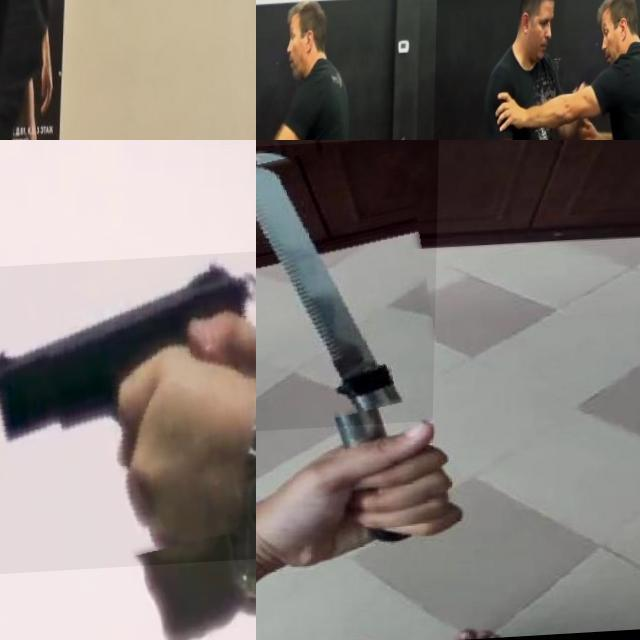-: (256, 140, 439, 435), (0, 0, 35, 90)
gun-knife-thesis - v11 Yolov5 augmented: (0, 256, 256, 579)
